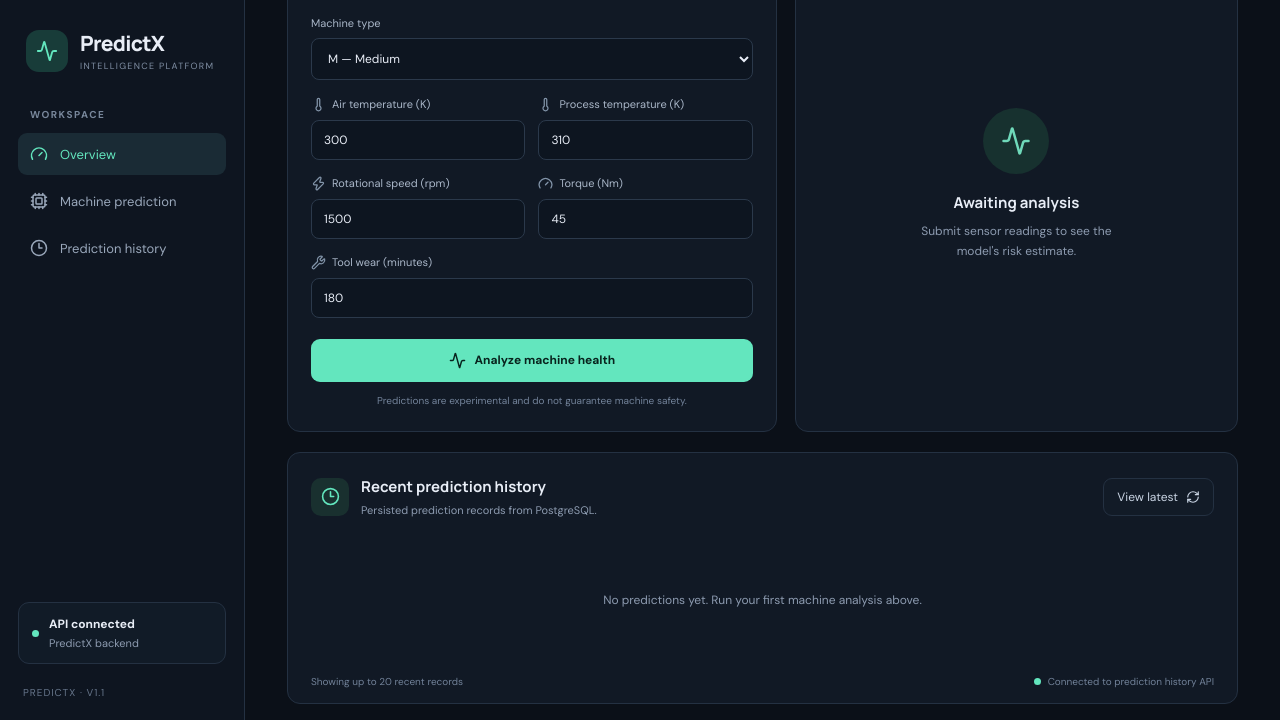
Scenario: PredictX dashboard › submits a machine reading and displays the prediction
(page scrolled)
Click the button "Analyze machine health" at point(532, 360), box [311,338,753,382]
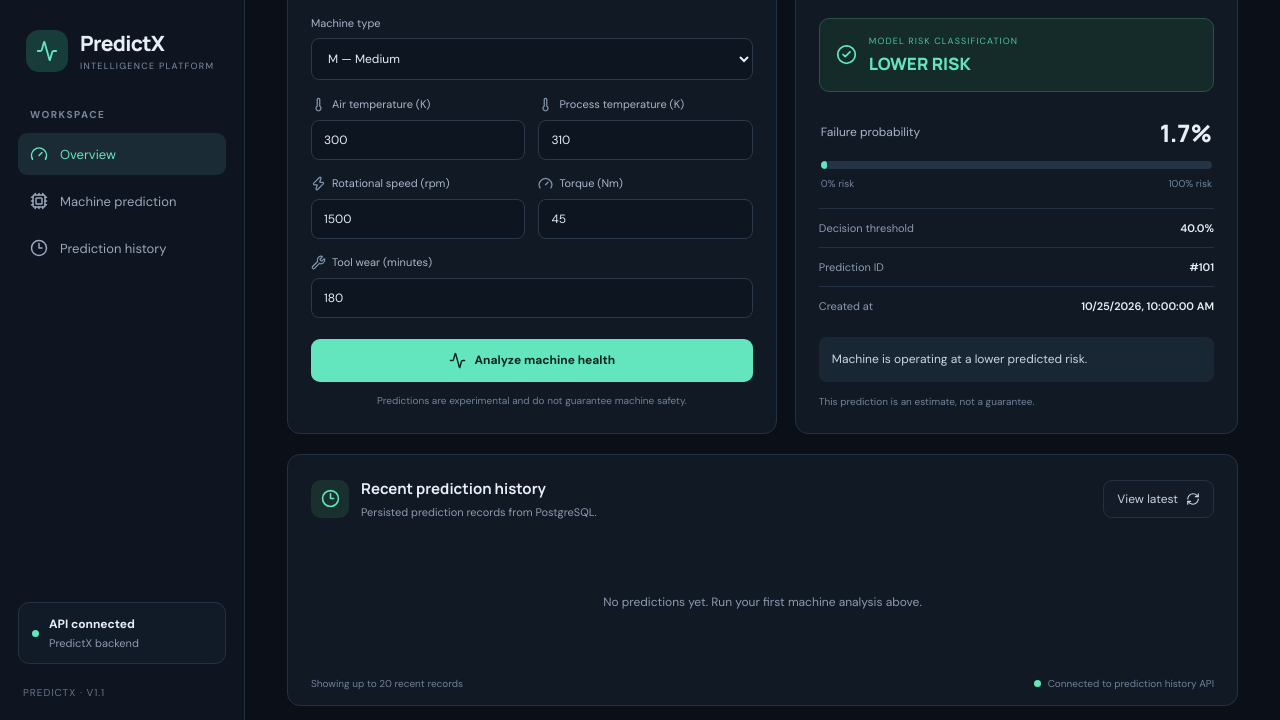
Result: the text "LOWER RISK" is shown at [869,52,971,74]
